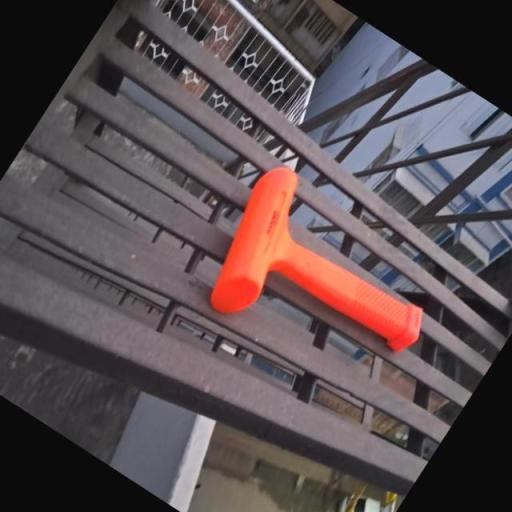mallet: (186, 159, 457, 411)
